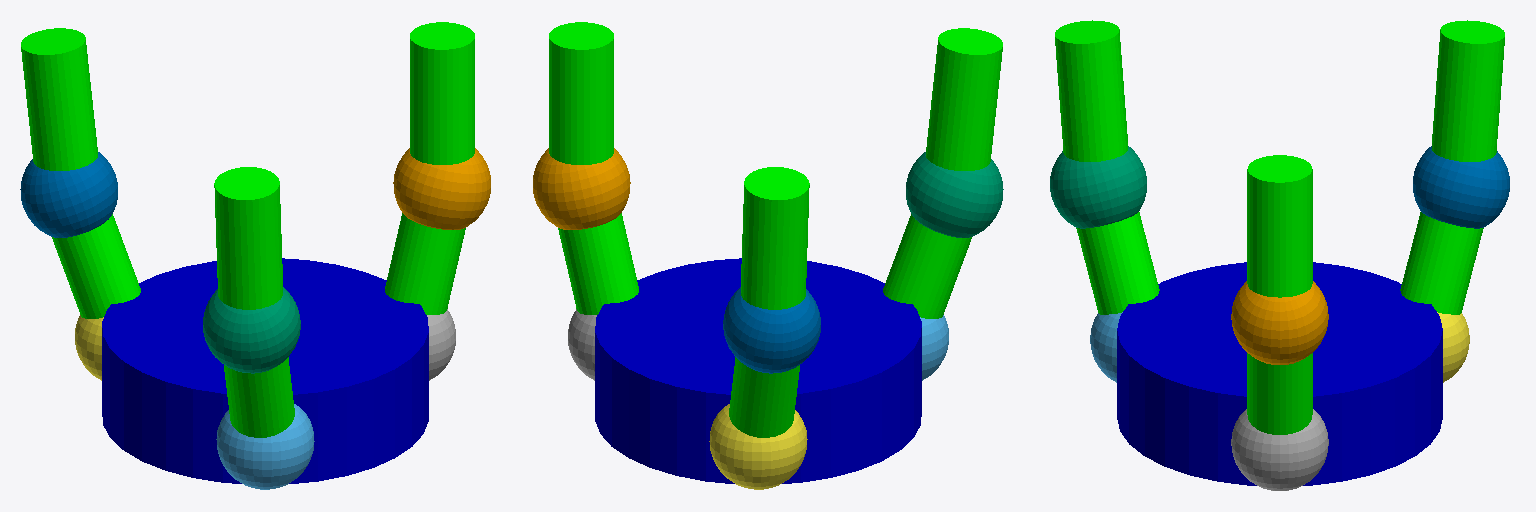
URDF robot description (gripper_3f_1j):
<?xml version="1.0"?>
<robot name="gripper_3f_1j">
    <link name="palm">
        <inertia>
            <mass value='3.0'/>
            <origin xyz='0 0 0'/>
            <inertia ixx="1.0" ixy="0.0" ixz="0.0" iyy="1.0" iyz="0.0" izz="1.0"/>
        </inertia>
        <visual>
            <geometry>
                <cylinder length="0.03" radius="0.05"/>
            </geometry>
            <material name="blue">
                <color rgba="0 0 .8 1"/>
            </material>
        </visual>
        <collision>
            <origin rpy="0 0 0 " xyz="0 0 0"/>
            <geometry>
                <cylinder length="0.04" radius="0.015"/>
            </geometry>
            <contact_coefficients kd="1.0" kp="10000.0" mu="1.5"/>
        </collision>
    </link>

    <link name='f11'>
        <inertia>
            <mass value='.1'/>
            <inertia ixx="0.01" ixy="0" ixz="0" iyy="0.01" iyz="0" izz="0.01"/>
        </inertia>
        <visual>
            <origin xyz='0 0 .025'/>
            <geometry>
                <cylinder length='.05' radius='.01'/>
            </geometry>
            <material name='green'>
                <color rgba='0 1 0 1'/>
            </material>
        </visual>
        <collision>
            <origin rpy="0 0 0 " xyz="0 0 0"/>
            <geometry>
                <cylinder length='.05' radius='.01'/>
            </geometry>
            <contact_coefficients kd="1.0" kp="10000.0" mu="1"/>
        </collision>
    </link>
    <link name='f12'>
        <inertia>
            <mass value='.1'/>
            <inertia ixx="0.01" ixy="0" ixz="0" iyy="0.01" iyz="0" izz="0.01"/>
        </inertia>
        <visual>
            <origin xyz='0 0 .025'/>
            <geometry>
                <cylinder length='.05' radius='.01'/>
            </geometry>
            <material name='green'>
                <color rgba='0 1 0 1'/>
            </material>
        </visual>
        <collision>
            <origin rpy="0 0 0 " xyz="0 0 0"/>
            <geometry>
                <cylinder length='.05' radius='.01'/>
            </geometry>
            <contact_coefficients kd="1.0" kp="10000.0" mu="1"/>
        </collision>
    </link>
    <link name='f21'>
        <inertia>
            <mass value='.1'/>
            <inertia ixx="0.01" ixy="0" ixz="0" iyy="0.01" iyz="0" izz="0.01"/>
        </inertia>
        <visual>
            <origin xyz='0 0 .025'/>
            <geometry>
                <cylinder length='.05' radius='.01'/>
            </geometry>
            <material name='green'>
                <color rgba='0 1 0 1'/>
            </material>
        </visual>
        <collision>
            <origin rpy="0 0 0 " xyz="0 0 0"/>
            <geometry>
                <cylinder length='.05' radius='.01'/>
            </geometry>
            <contact_coefficients kd="1.0" kp="10000.0" mu="1"/>
        </collision>
    </link>
    <link name='f22'>
        <inertia>
            <mass value='.1'/>
            <inertia ixx="0.01" ixy="0" ixz="0" iyy="0.01" iyz="0" izz="0.01"/>
        </inertia>
        <visual>
            <origin xyz='0 0 .025'/>
            <geometry>
                <cylinder length='.05' radius='.01'/>
            </geometry>
            <material name='green'>
                <color rgba='0 1 0 1'/>
            </material>
        </visual>
        <collision>
            <origin rpy="0 0 0 " xyz="0 0 0"/>
            <geometry>
                <cylinder length='.05' radius='.01'/>
            </geometry>
            <contact_coefficients kd="1.0" kp="10000.0" mu="1"/>
        </collision>
    </link>
    <link name='f31'>
        <inertia>
            <mass value='.1'/>
            <inertia ixx="0.01" ixy="0" ixz="0" iyy="0.01" iyz="0" izz="0.01"/>
        </inertia>
        <visual>
            <origin xyz='0 0 .025'/>
            <geometry>
                <cylinder length='.05' radius='.01'/>
            </geometry>
            <material name='green'>
                <color rgba='0 1 0 1'/>
            </material>
        </visual>
        <collision>
            <origin rpy="0 0 0 " xyz="0 0 0"/>
            <geometry>
                <cylinder length='.05' radius='.01'/>
            </geometry>
            <contact_coefficients kd="1.0" kp="10000.0" mu="1"/>
        </collision>
    </link>
    <link name='f32'>
        <inertia>
            <mass value='.1'/>
            <inertia ixx="0.01" ixy="0" ixz="0" iyy="0.01" iyz="0" izz="0.01"/>
        </inertia>
        <visual>
            <origin xyz='0 0 .025'/>
            <geometry>
                <cylinder length='.05' radius='.01'/>
            </geometry>
            <material name='green'>
                <color rgba='0 1 0 1'/>
            </material>
        </visual>
        <collision>
            <origin rpy="0 0 0 " xyz="0 0 0"/>
            <geometry>
                <cylinder length='.05' radius='.01'/>
            </geometry>
            <contact_coefficients kd="1.0" kp="10000.0" mu="1"/>
        </collision>
    </link>

    <link name='f11_slot'>
        <visual>
            <origin xyz='0 0 0'/>
            <geometry>
                <sphere radius='.015'/>
            </geometry>
        </visual>
    </link>
    <link name='f12_slot'>
        <visual>
            <geometry>
                <sphere radius='.015'/>
            </geometry>
        </visual>
    </link>
    <link name='f21_slot'>
        <visual>
            <origin xyz='0 0 0'/>
            <geometry>
                <sphere radius='.015'/>
            </geometry>
        </visual>
    </link>
    <link name='f22_slot'>
        <visual>
            <geometry>
                <sphere radius='.015'/>
            </geometry>
        </visual>
    </link>
    <link name='f31_slot'>
        <visual>
            <origin xyz='0 0 0'/>
            <geometry>
                <sphere radius='.015'/>
            </geometry>
        </visual>
    </link>
    <link name='f32_slot'>
        <visual>
            <geometry>
                <sphere radius='.015'/>
            </geometry>
        </visual>
    </link>

    <joint name='f11_joint' type="revolute">
        <origin xyz="0 0 .0" rpy="0 .25 0"/>
        <parent link='f11_slot'/>
        <child link='f11'/>
        <axis xyz='0 1 0'/>
        <dynamics damping='100.0' friction='1.0'/>
        <limit effort='30' lower='-.4' upper='.25' velocity='2.0'/>
    </joint>
    <joint name='f12_joint' type="revolute">
        <origin xyz="0 0 .0" rpy="0 -.0 0"/>
        <parent link='f12_slot'/>
        <child link='f12'/>
        <axis xyz='0 1 0'/>
        <dynamics damping='100.0' friction='1.0'/>
        <limit effort='30' lower='-.65' upper='.0' velocity='2.0'/>
		<mimic joint='f11_joint' multiplier='1' offset='-.25'/>
	</joint>
    <joint name='f21_joint' type="revolute">
        <origin xyz="0 0 .0" rpy=".25 -.25 0"/>
        <parent link='f21_slot'/>
        <child link='f21'/>
        <axis xyz='1 -1 0'/>
        <dynamics damping='100.0' friction='1.0'/>
        <limit effort='30' lower='-.4' upper='.25' velocity='2.0'/>
    </joint>
    <joint name='f22_joint' type="revolute">
        <origin xyz="0 0 .0" rpy="0 -.0 0"/>
        <parent link='f22_slot'/>
        <child link='f22'/>
        <axis xyz='1 -1 0'/>
        <dynamics damping='100.0' friction='1.0'/>
        <limit effort='30' lower='-.65' upper='.0' velocity='2.0'/>
		<mimic joint='f21_joint' multiplier='1' offset='-.25'/>
	</joint>
    <joint name='f31_joint' type="revolute">
        <origin xyz="0 .0 .0" rpy="-.25 -.25 0"/>
        <parent link='f31_slot'/>
        <child link='f31'/>
        <axis xyz='-1 -1 0'/>
        <limit effort='30' lower='-.4' upper='.25' velocity='2.0'/>
        <dynamics damping='100.0' friction='1.0'/>
    </joint>
    <joint name='f32_joint' type="revolute">
        <origin xyz="0 0 .0" rpy="0 -.0 0"/>
        <parent link='f32_slot'/>
        <child link='f32'/>
        <axis xyz='-1 -1 0'/>
        <dynamics damping='100.0' friction='1.0'/>
        <limit effort='30' lower='-.65' upper='.0' velocity='2.0'/>
		<mimic joint='f31_joint' multiplier='1' offset='-.25'/>
	</joint>

    <joint name='f11_slot_joint' type="fixed">
        <origin xyz=".05 0 .0" rpy="0 0 0"/>
        <parent link='palm'/>
        <child link='f11_slot'/>
    </joint>
    <joint name='f12_slot_joint' type="fixed">
        <origin xyz="0 0 .05" rpy="0 0 0"/>
        <parent link='f11'/>
        <child link='f12_slot'/>
    </joint>
    <joint name='f21_slot_joint' type="fixed">
        <origin xyz="-.025 -0.043301270189222 .0" rpy="0 0 0"/>
        <parent link='palm'/>
        <child link='f21_slot'/>
    </joint>
    <joint name='f22_slot_joint' type="fixed">
        <origin xyz="0 0 .05" rpy="0 0 0"/>
        <parent link='f21'/>
        <child link='f22_slot'/>
    </joint>
    <joint name='f31_slot_joint' type="fixed">
        <origin xyz="-.025 0.043301270189222 .0" rpy="0 0 0"/>
        <parent link='palm'/>
        <child link='f31_slot'/>
    </joint>
    <joint name='f32_slot_joint' type="fixed">
        <origin xyz="0 0 .05" rpy="0 0 0"/>
        <parent link='f31'/>
        <child link='f32_slot'/>
    </joint>

</robot>

--- What the picture shows (computed from the rendered views, not written in the file) ---
The picture shows the robot from 3 angles, left to right: view 1: azimuth 30°, elevation 25°; view 2: azimuth 150°, elevation 25°; view 3: azimuth 270°, elevation 25°; orthographic projection.
Robot: gripper_3f_1j — 13 links, 12 joints (6 revolute, 6 fixed); root link palm; default pose: all joints at 0.
Links seen in each view (by area): view 1: palm, f32, f12, f22, f32_slot, f12_slot, f22_slot, f31, f11, f21_slot, f21, f11_slot (+1 smaller); view 2: palm, f22, f12, f32, f22_slot, f12_slot, f32_slot, f21, f11, f31_slot, f31, f11_slot (+1 smaller); view 3: palm, f12, f22, f32, f12_slot, f22_slot, f32_slot, f21, f31, f11_slot, f11, f21_slot (+1 smaller).
Link boxes in pixels (x1,y1,x2,y2): palm: (102,258,428,483); f32: (21,28,97,170); f12: (410,22,474,164); f22: (214,167,282,309); f32_slot: (20,152,117,237); f12_slot: (393,148,490,229); f22_slot: (203,287,300,373); f31: (52,214,140,318); f11: (385,213,465,314); f21_slot: (216,404,314,489); f21: (224,357,294,437); f11_slot: (427,309,455,380); palm: (595,258,921,483); f22: (926,28,1002,170); f12: (549,22,613,164); f32: (741,167,809,309); f22_slot: (906,152,1003,237); f12_slot: (533,148,630,229); f32_slot: (723,287,820,373); f21: (883,214,971,318); f11: (558,213,638,314); f31_slot: (709,404,807,489); f31: (729,357,799,437); f11_slot: (568,309,596,380); palm: (1117,262,1442,485); f12: (1247,155,1312,297); f22: (1055,20,1127,161); f32: (1432,20,1504,161); f12_slot: (1231,281,1328,364); f22_slot: (1050,146,1146,228); f32_slot: (1413,146,1509,228); f21: (1076,212,1159,314); f31: (1400,212,1483,314); f11_slot: (1231,409,1328,490); f11: (1247,353,1312,434); f21_slot: (1090,312,1122,382).
Size in the robot's own frame: 0.1293 by 0.1413 by 0.1134 metres.
Geometry: primitives only (box / cylinder / sphere), no mesh files.